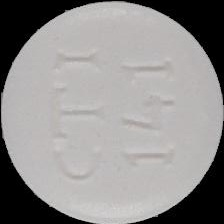50268-510: (0, 0, 224, 224)
